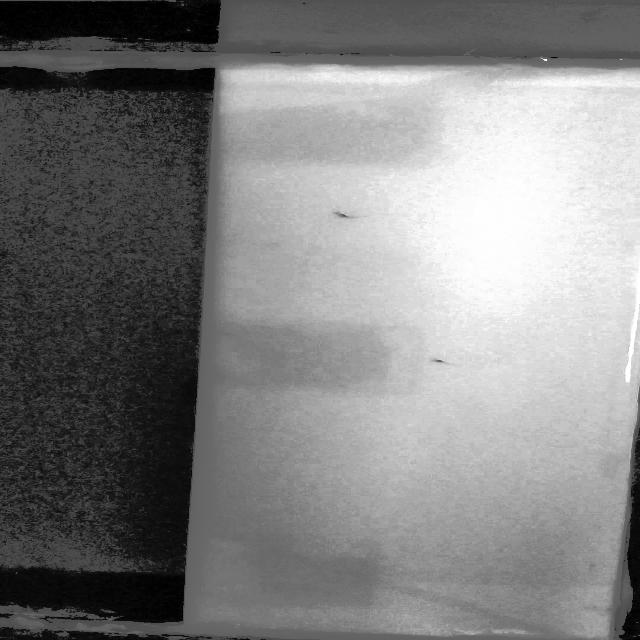shrimp: (322, 207, 366, 223), (422, 356, 455, 367)
